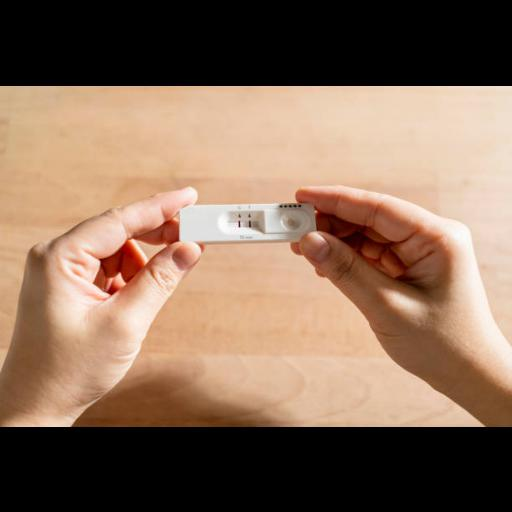Pos: (180, 204, 312, 240)
